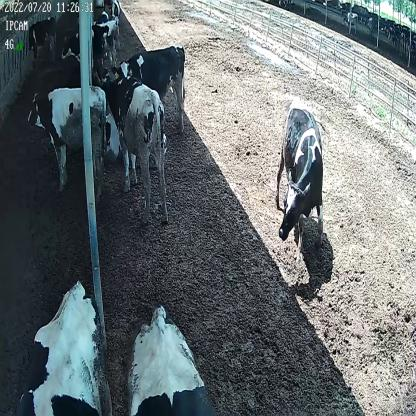cow: (108, 74, 168, 228), (275, 97, 326, 271), (28, 86, 107, 197), (112, 46, 188, 135), (110, 0, 120, 45)
